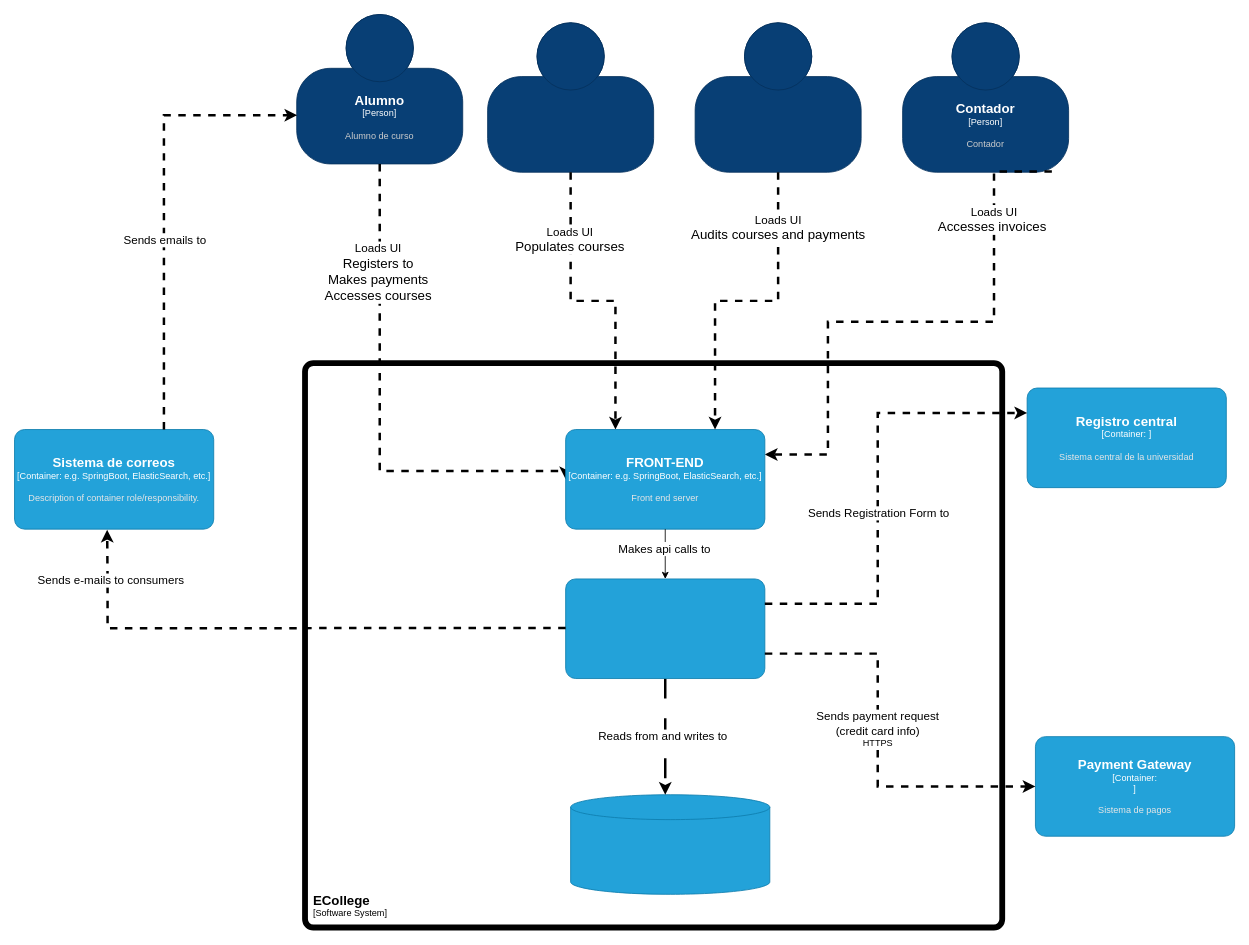
Some shapes in this 1249 by 945 pixel diagram are drawn without their labels. The centre of each missing label's shape, as x and y in pixels:
"Administrador [Person] System Admin" belongs at [777,97].
"Data Base [Container: PostgreSQL] Base de datos" belongs at [670,844].
"Monolito [Container: e.g. SpringBoot, ElasticSearch, etc.] Monolito" belongs at [665,628].
"Profesor [Person] Profesor de Curso" belongs at [570,97].
